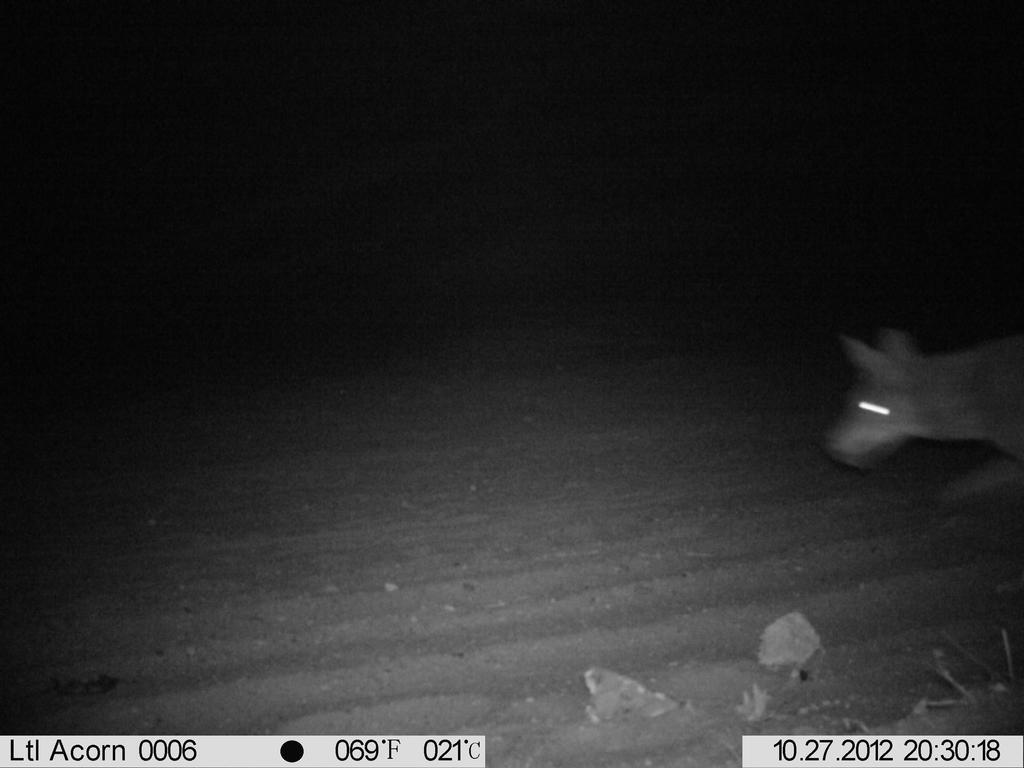coyote: (812, 315, 1019, 520)
